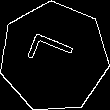L_E: (25, 33, 83, 81)
